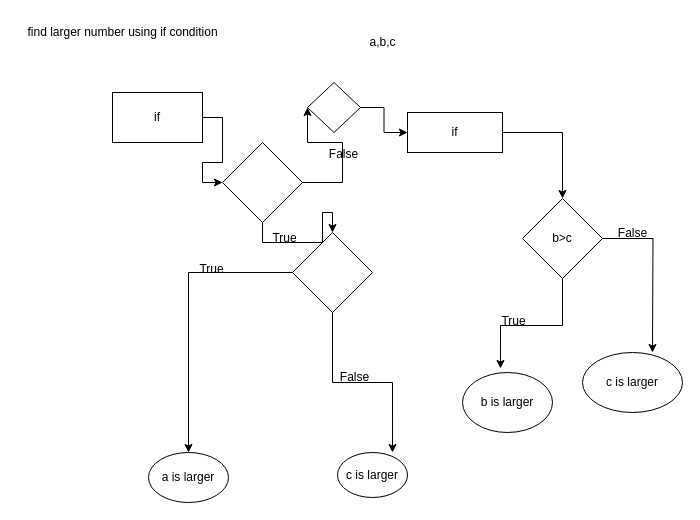
The diagram is 700 pixels wide and 520 high, and some of its shapes have lost their labels. The centre of each missing label's shape, as x and y in pixels:
"a>b" goes at (262,182).
"a>c" goes at (332,272).
"else" goes at (333,107).
